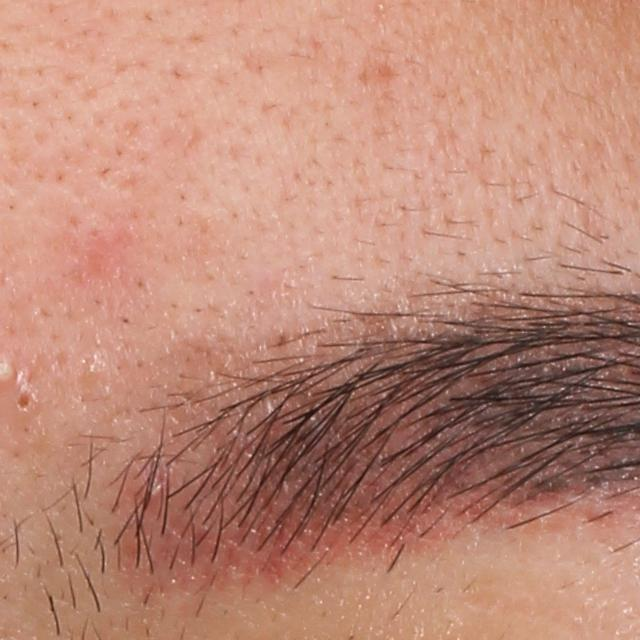comedo: (13, 383, 45, 414)
